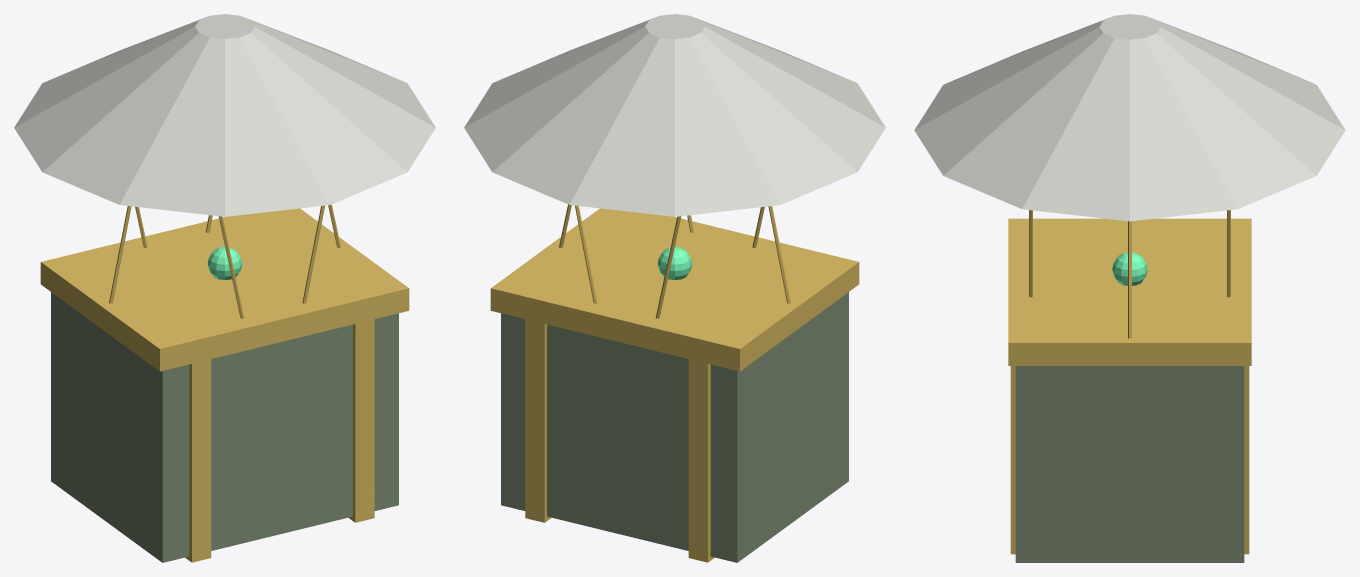
File: supply_pod.glb
The picture shows the model from 3 angles, left to right: view 1: azimuth 30°, elevation 25°; view 2: azimuth 150°, elevation 25°; view 3: azimuth 270°, elevation 25°; orthographic projection. The views are drawn at different scales.
Visible parts, largest first — view 1: Parachute, Crate, Lid, Strap, Strap.001, Beacon; view 2: Parachute, Crate, Lid, Strap, Strap.001, Beacon; view 3: Parachute, Crate, Lid, Strap.001, Beacon.
Part boxes in pixels (box(x1,y1,x2,y2)): Parachute: box(14, 14, 435, 216); Crate: box(51, 292, 398, 562); Lid: box(40, 208, 409, 371); Strap: box(185, 359, 211, 562); Strap.001: box(348, 319, 374, 522); Beacon: box(207, 246, 242, 280); Parachute: box(464, 14, 885, 216); Crate: box(501, 292, 848, 562); Lid: box(490, 208, 859, 371); Strap: box(688, 359, 714, 562); Strap.001: box(525, 319, 551, 522); Beacon: box(657, 246, 692, 280); Parachute: box(914, 14, 1345, 221); Crate: box(1015, 366, 1244, 562); Lid: box(1008, 218, 1251, 365); Strap.001: box(1010, 366, 1249, 554); Beacon: box(1112, 252, 1147, 285).
Bounding box in the file's own units: 1.7 × 2.1 × 1.7.
